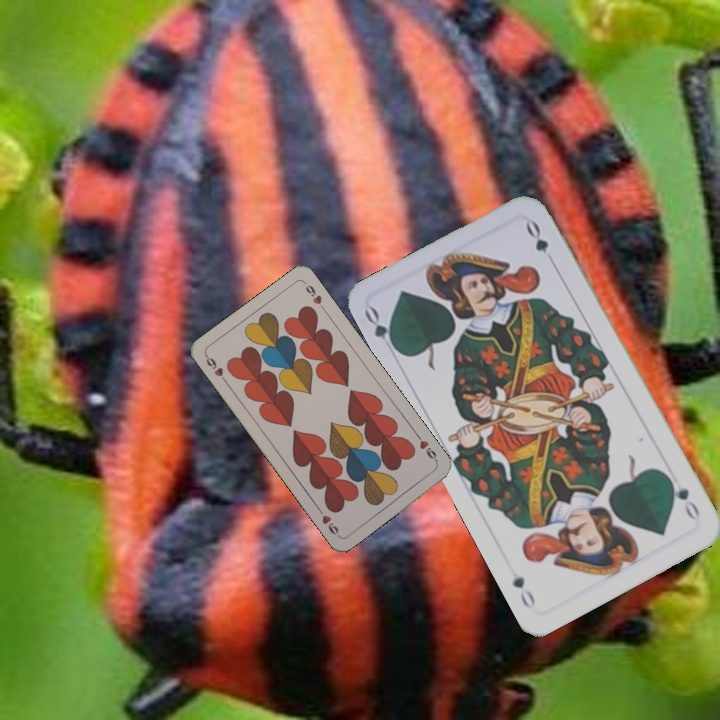GO: (360, 303, 402, 355), (663, 472, 703, 524)
H9: (201, 351, 230, 386), (412, 430, 441, 465)
